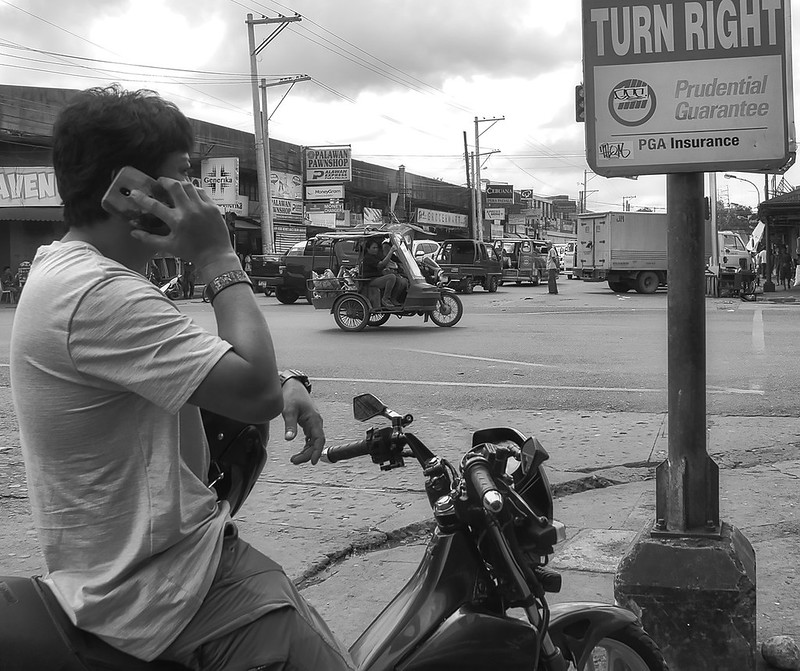phone: (98, 157, 197, 243)
talk: (95, 149, 233, 279)
